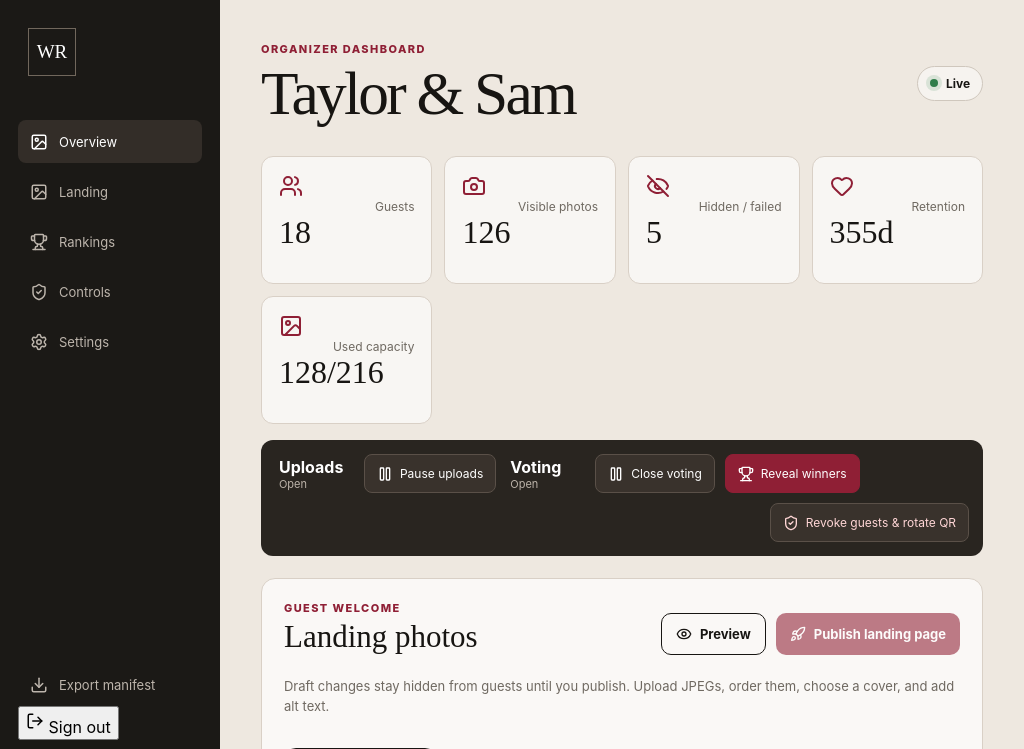
Test case: AdminDashboard › pauses uploads with an explicit control
Click the button "Pause uploads" at (430,474), box [364, 454, 496, 493]
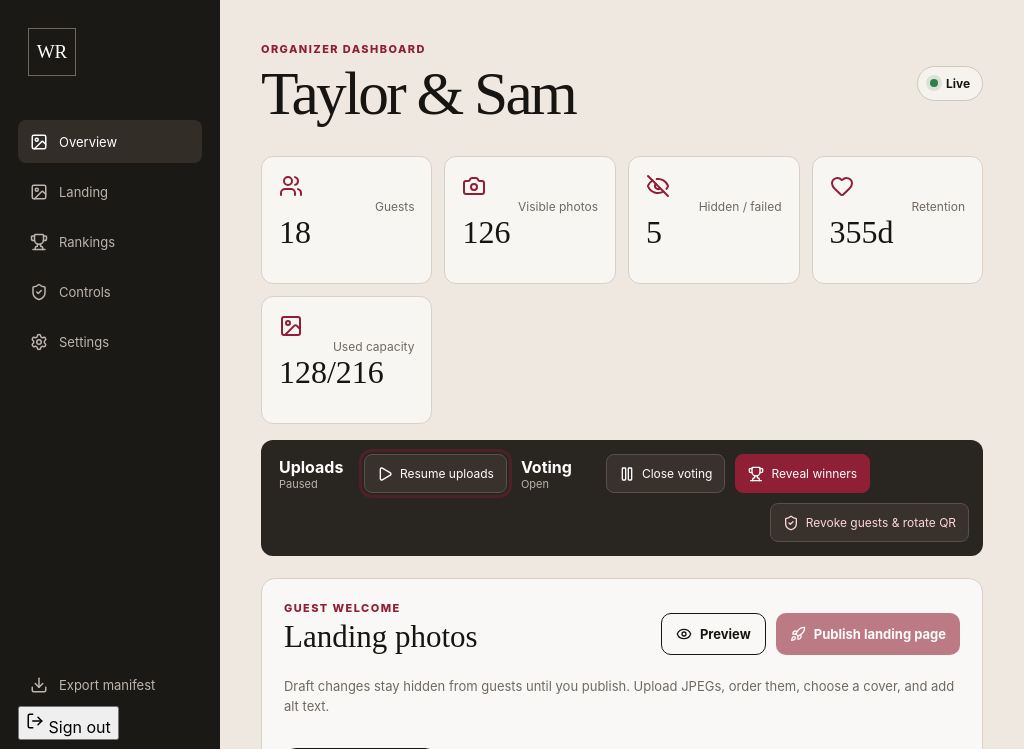
Expected: the button "Resume uploads" is shown, [364, 454, 507, 493]
